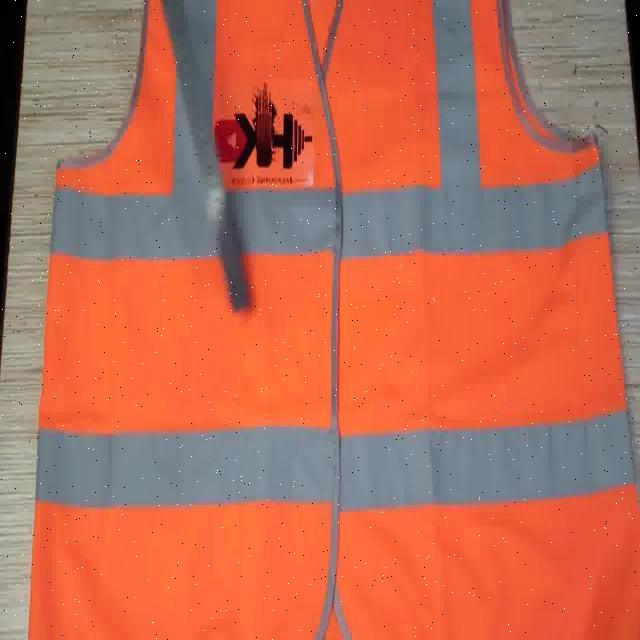Vest: (31, 0, 600, 640)
